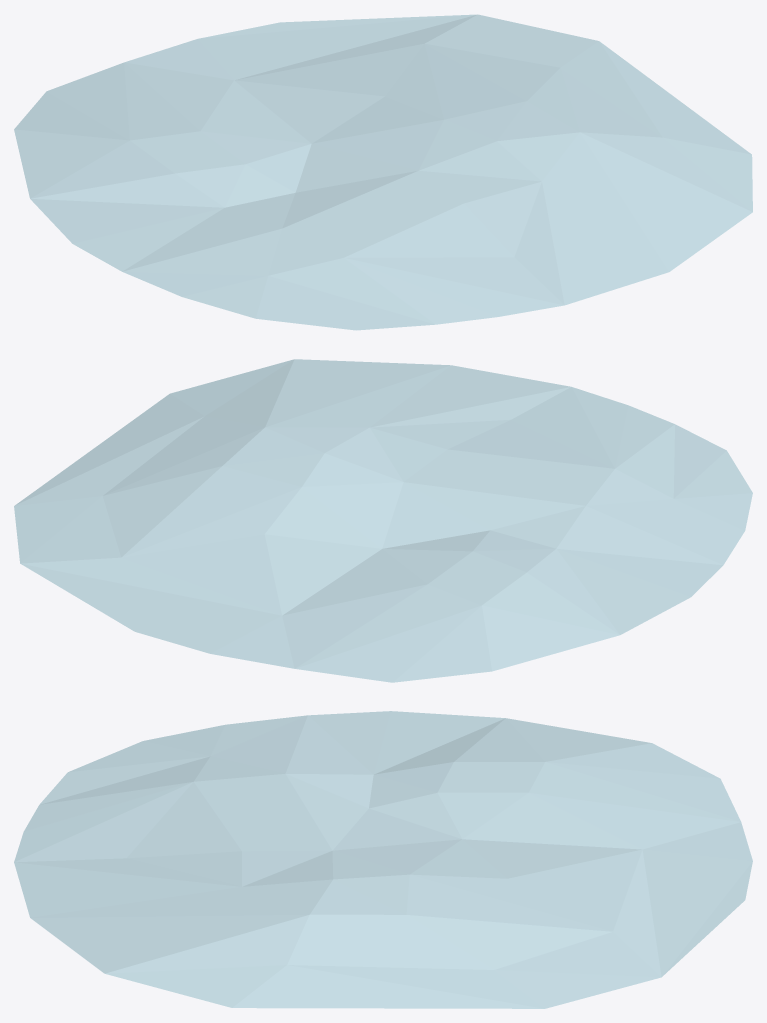
File: SM_Env_DirtMound_02_Snow.fbx
3 renders of one model, top to bottom at view 1: azimuth 30°, elevation 25°; view 2: azimuth 150°, elevation 25°; view 3: azimuth 270°, elevation 25°, orthographic.
Parts seen in each view (by area): view 1: SM_Env_DirtMound_02_Snow; view 2: SM_Env_DirtMound_02_Snow; view 3: SM_Env_DirtMound_02_Snow.
Boxes of the visible parts, bbox=[...] form: SM_Env_DirtMound_02_Snow: bbox=[14, 14, 752, 330]; SM_Env_DirtMound_02_Snow: bbox=[14, 359, 752, 682]; SM_Env_DirtMound_02_Snow: bbox=[14, 711, 752, 1008].
Size of the model in its own units: 1645 by 70.12 by 1725.
